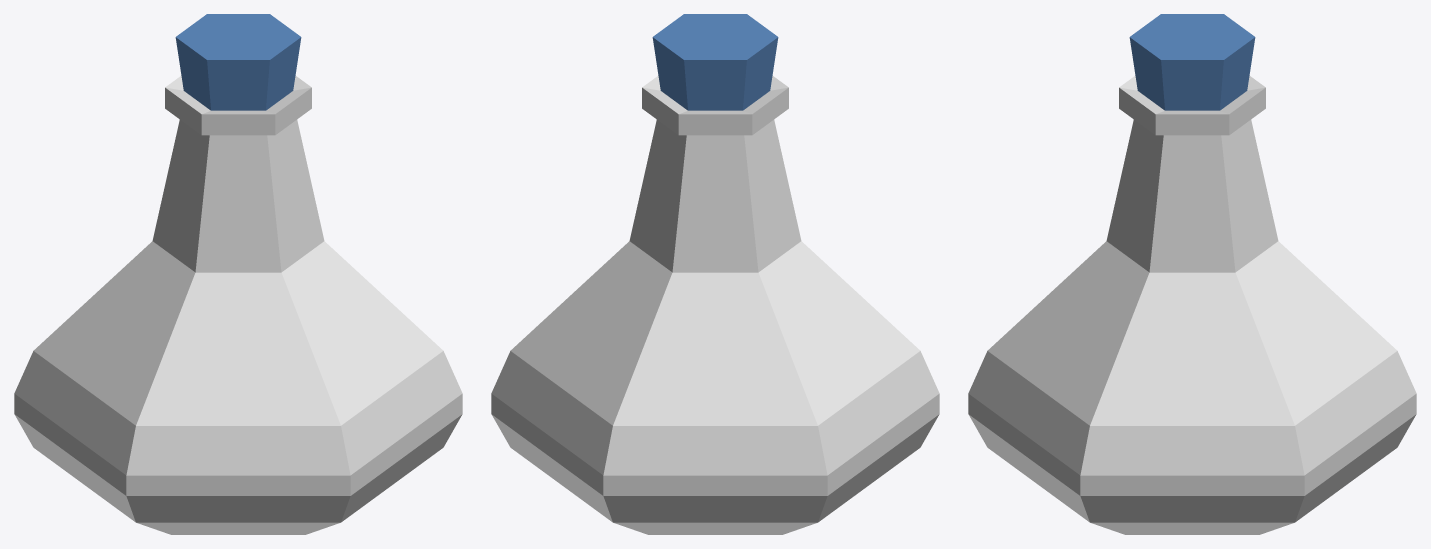
File: blue_sblood.fbx
3 views of the same model, side by side, from view 1: azimuth 30°, elevation 25°; view 2: azimuth 150°, elevation 25°; view 3: azimuth 270°, elevation 25° (orthographic).
Parts seen in each view (by area): view 1: bottle, cap; view 2: bottle, cap; view 3: bottle, cap.
Boxes of the visible parts, x1,y1,x2,y2 form: bottle: (14,76,462,534); cap: (175,14,301,110); bottle: (491,76,939,534); cap: (652,14,778,110); bottle: (968,76,1416,534); cap: (1129,14,1255,110).
Bounding box in the file's own units: 189 × 242 × 219.
